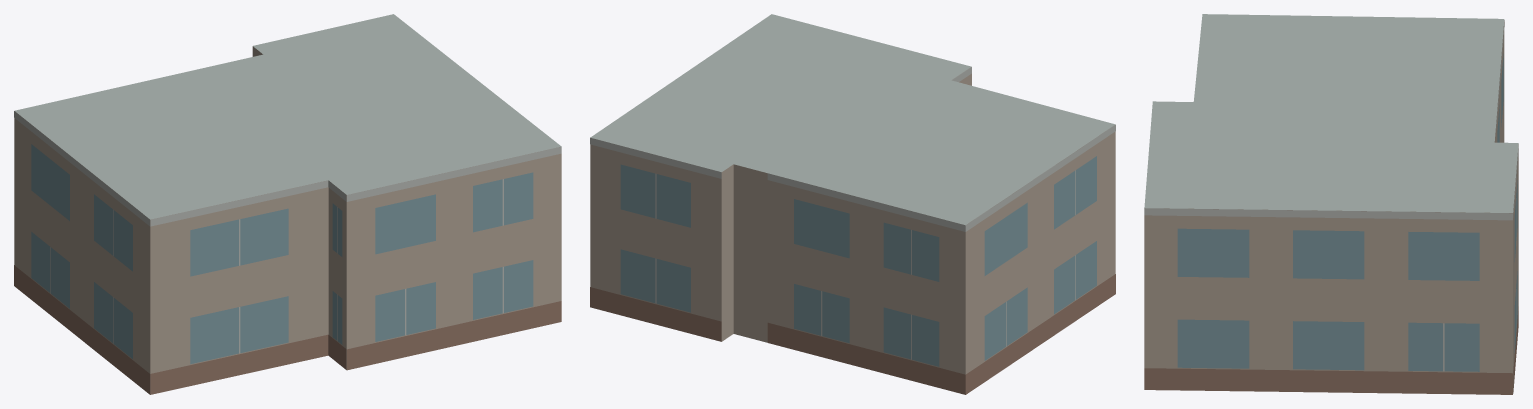
Rendered from survey-upis-32868267.glb.
3 views of the same model, side by side, from view 1: azimuth 30°, elevation 25°; view 2: azimuth 150°, elevation 25°; view 3: azimuth 270°, elevation 25° (orthographic). The views are drawn at different scales.
Visible parts, largest first — view 1: survey-upis-32868267.tmp; view 2: survey-upis-32868267.tmp; view 3: survey-upis-32868267.tmp.
Boxes of the visible parts, left/top/right/bottom form: survey-upis-32868267.tmp: left=14, top=14, right=561, bottom=394; survey-upis-32868267.tmp: left=590, top=14, right=1115, bottom=394; survey-upis-32868267.tmp: left=1144, top=14, right=1518, bottom=394.
Bounding box in the file's own units: 14.34 × 6.1 × 11.39.
